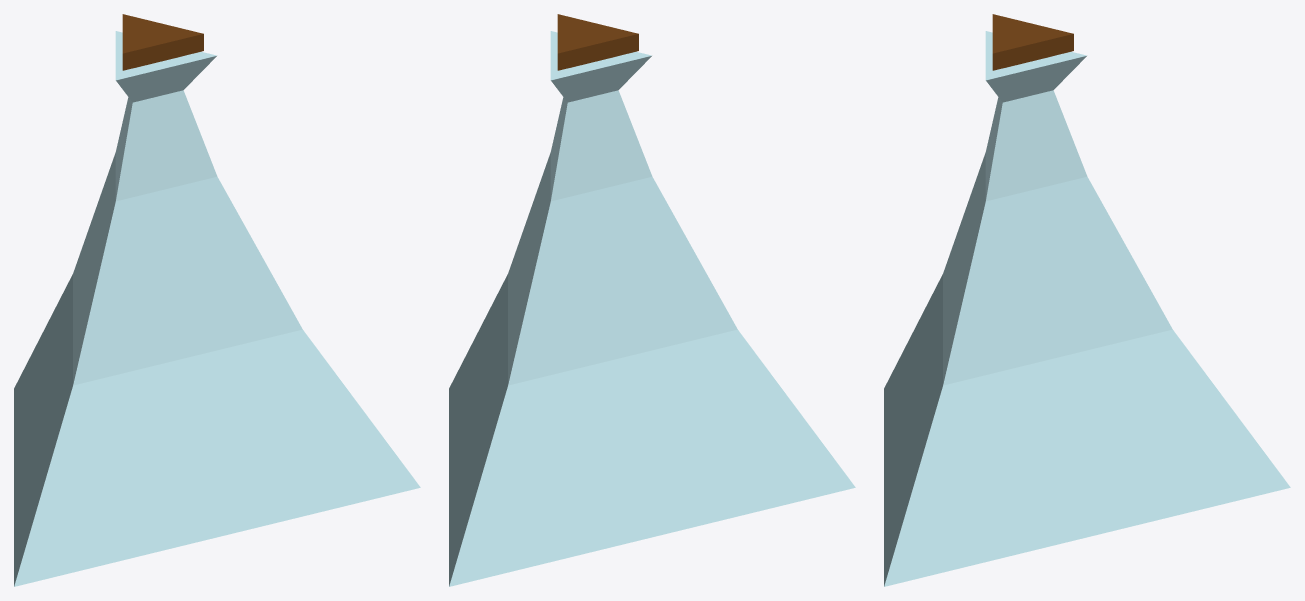
Rendered from Potion3.fbx.
3 views of the same model, side by side, from view 1: azimuth 30°, elevation 25°; view 2: azimuth 150°, elevation 25°; view 3: azimuth 270°, elevation 25° (orthographic).
Parts seen in each view (by area): view 1: Potion3; view 2: Potion3; view 3: Potion3.
Boxes of the visible parts, bbox=[...] form: Potion3: bbox=[14, 14, 420, 586]; Potion3: bbox=[449, 14, 855, 586]; Potion3: bbox=[884, 14, 1290, 586].
Bounding box in the file's own units: 20.78 × 22.16 × 18.
